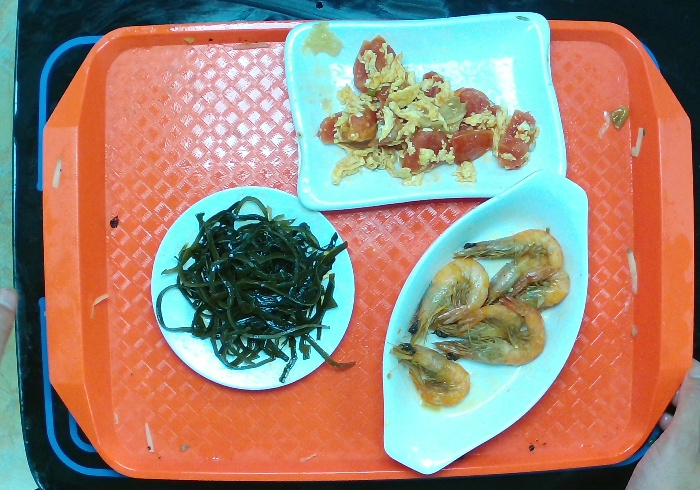RJxy-Si_Fang_Ao_Bian_Wan: (277, 6, 580, 211)
RJxy-Xiao_Yuan_Die: (146, 181, 359, 393)
RJxy-Yu_Pan: (376, 170, 594, 483)
